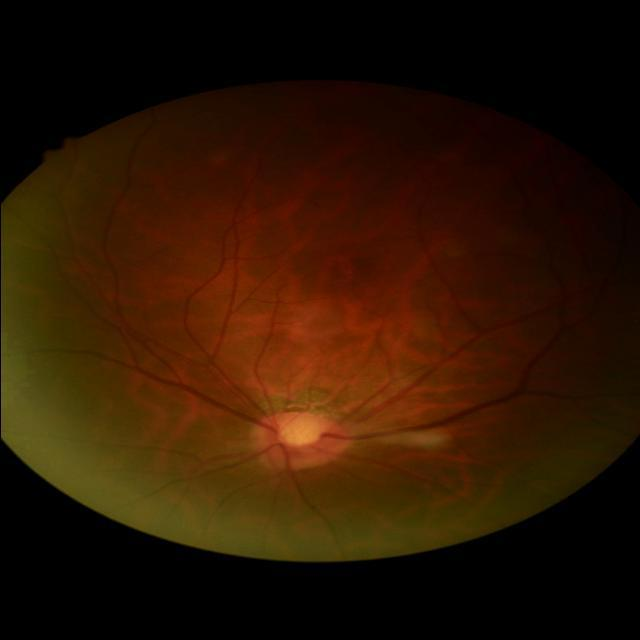cup: (277, 421, 321, 448)
disk: (248, 412, 348, 472)
